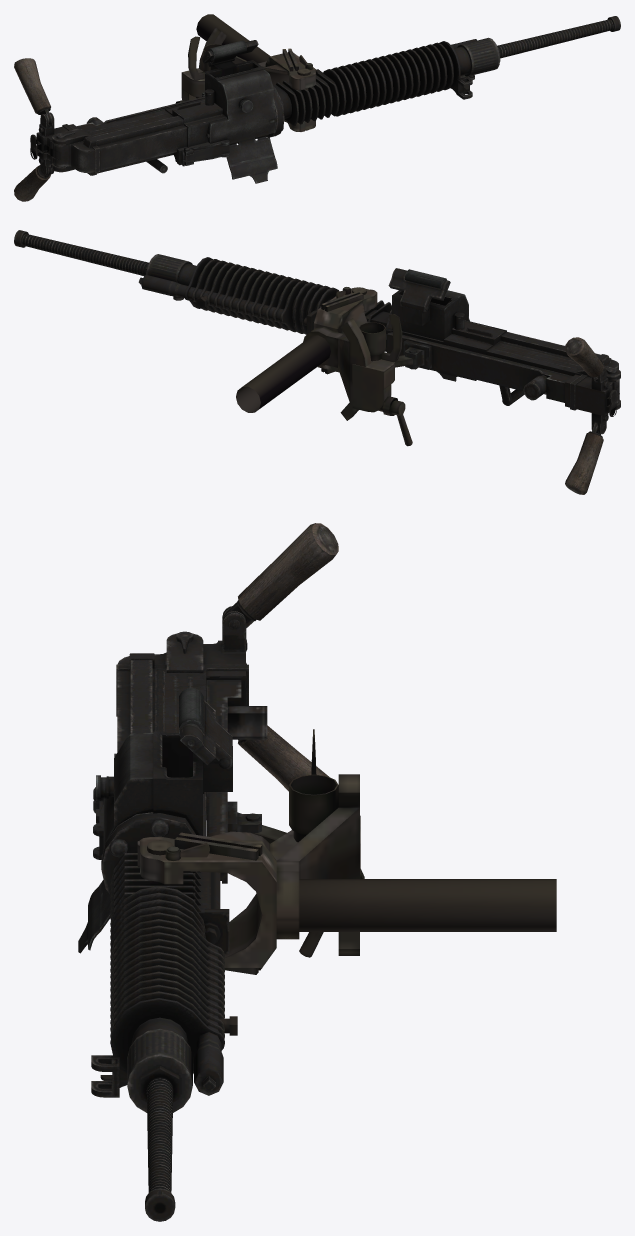
Rendered from weapon_jap_mg_type92_notripod_LOD01.obj.
3 views of the same model, one above another, from view 1: azimuth 30°, elevation 25°; view 2: azimuth 150°, elevation 25°; view 3: azimuth 270°, elevation 25° (orthographic). The views are drawn at different scales.
Parts seen in each view (by area): view 1: TomGroup_2, TomGroup_1, TomGroup_3; view 2: TomGroup_2, TomGroup_1, TomGroup_3; view 3: TomGroup_2, TomGroup_3, TomGroup_1.
Part boxes in pixels (<box>): TomGroup_2: <box>14,40,284,201</box>; TomGroup_1: <box>273,16,620,125</box>; TomGroup_3: <box>175,14,315,131</box>; TomGroup_2: <box>386,268,620,494</box>; TomGroup_1: <box>14,230,392,351</box>; TomGroup_3: <box>236,287,412,446</box>; TomGroup_2: <box>78,523,338,953</box>; TomGroup_3: <box>137,729,556,974</box>; TomGroup_1: <box>91,853,237,1221</box>.
Bounding box in the file's own units: 119 × 28.64 × 43.42.
2 materials, 2 textured.
